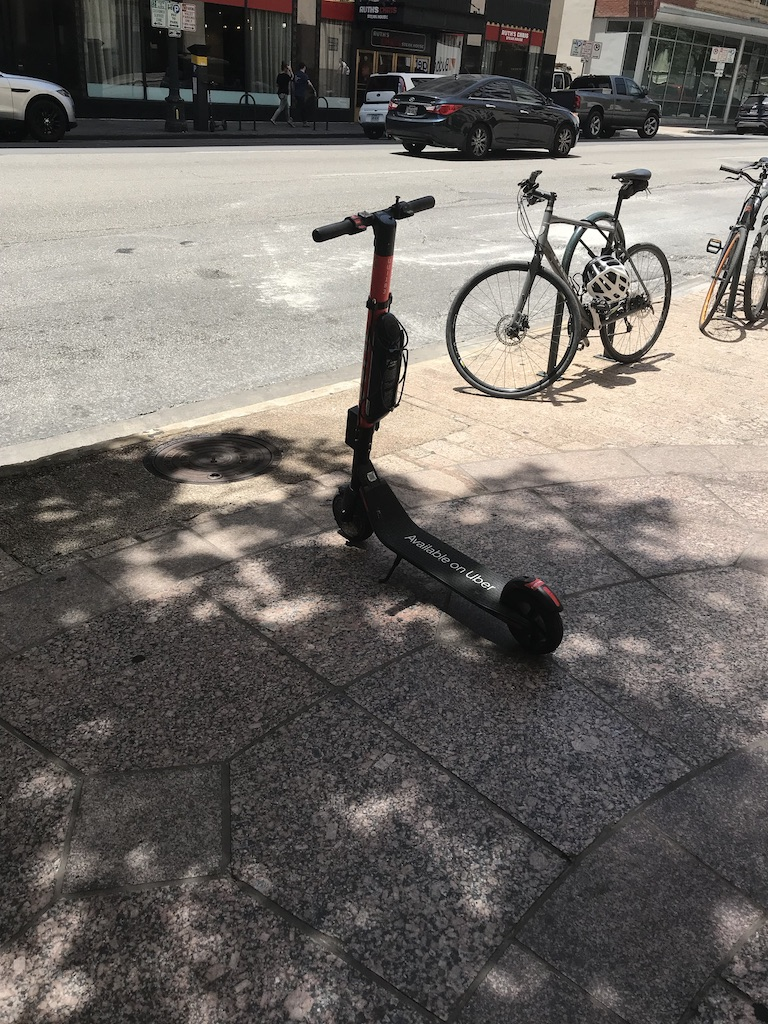scooter: (311, 193, 566, 660)
